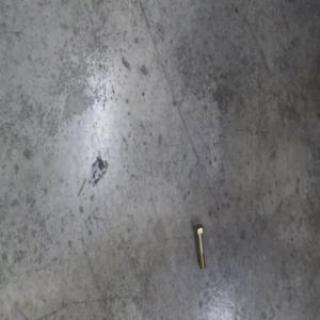Bolttrack_idkeyframe: (190, 222, 204, 270)
